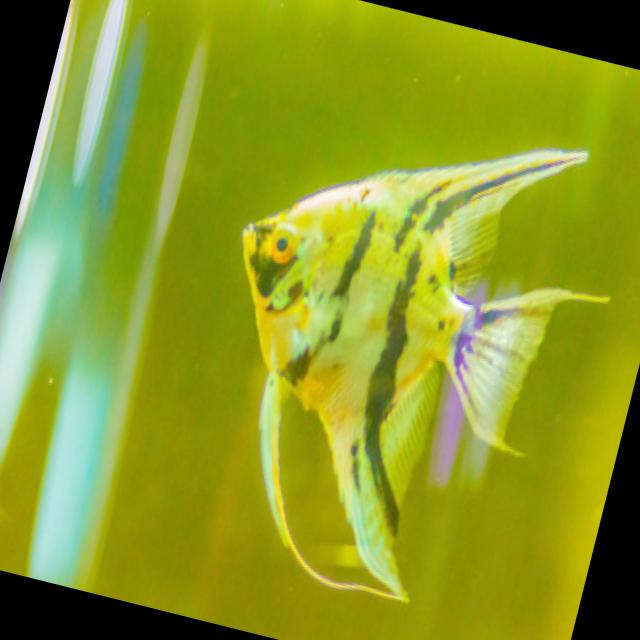AngelFish: (164, 75, 590, 624)
